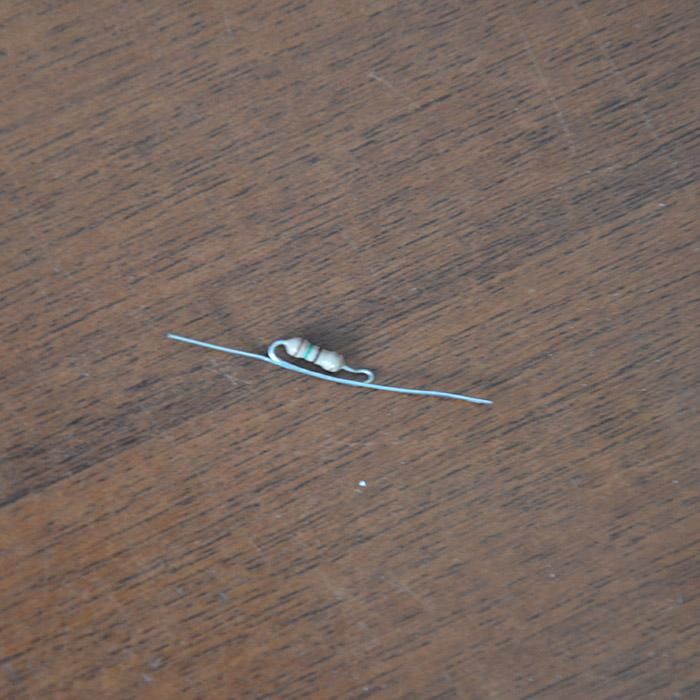resistor: (276, 335, 346, 371)
